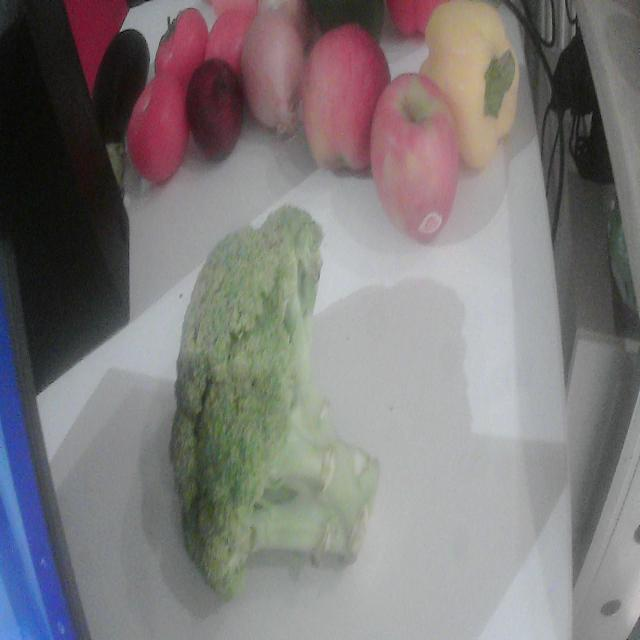Apple: (370, 74, 461, 241), (301, 25, 390, 172)
Bell Pepper: (420, 0, 518, 170)
Broccoli: (170, 205, 378, 598)
Eggplant: (92, 30, 149, 193)
Onion: (242, 12, 305, 133), (186, 60, 242, 158)
Tomato: (127, 75, 188, 185), (154, 9, 208, 88), (206, 2, 257, 75)
